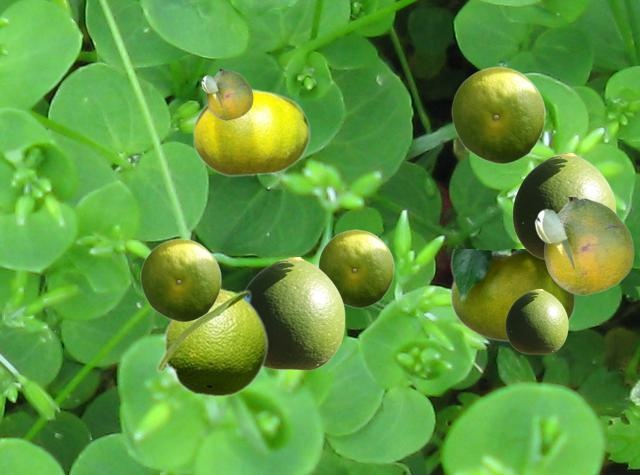dalandan: (155, 285, 268, 397), (450, 249, 573, 342), (245, 257, 344, 369), (512, 153, 615, 259), (192, 88, 309, 176), (534, 197, 633, 294), (451, 66, 544, 163), (140, 238, 220, 321), (318, 229, 393, 307), (505, 289, 567, 353), (201, 69, 252, 119)
